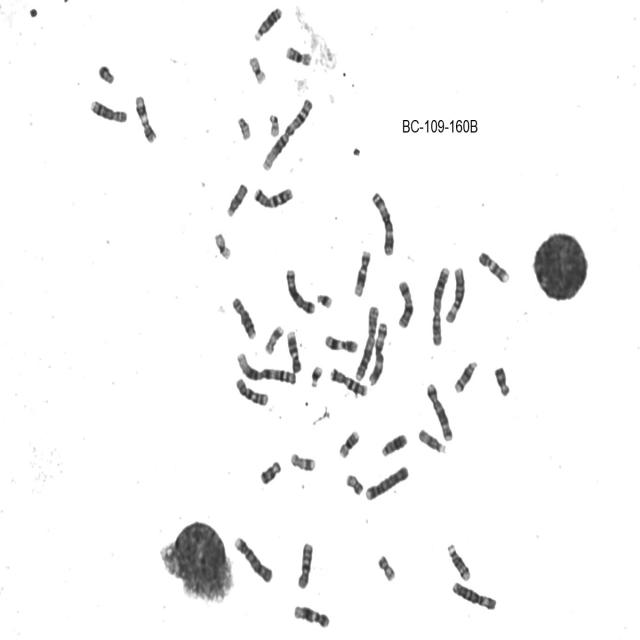A1: (260, 96, 314, 173), (234, 349, 299, 386)
A2: (354, 302, 381, 382), (429, 264, 451, 347)
A3: (370, 189, 396, 257), (366, 320, 388, 387)
B4: (232, 533, 274, 585), (363, 462, 410, 502)
B5: (424, 380, 454, 442), (284, 266, 316, 316)
C10: (233, 374, 270, 408), (296, 539, 314, 590)
C11: (133, 92, 157, 144), (323, 332, 359, 354)
C12: (291, 602, 331, 629), (352, 248, 372, 298)
C6: (450, 579, 498, 611), (444, 264, 466, 324)
C7: (328, 365, 368, 397), (252, 184, 294, 210)
C8: (230, 294, 258, 340), (88, 97, 128, 124)
C9: (476, 248, 511, 284), (284, 329, 302, 374)
D13: (252, 3, 284, 42), (380, 431, 408, 458)
D14: (445, 542, 472, 582), (452, 358, 479, 394)
D15: (417, 426, 448, 455), (225, 180, 248, 218)
E16: (336, 428, 361, 460), (283, 42, 313, 67)
E17: (263, 322, 285, 356), (288, 450, 317, 473)
E18: (492, 363, 512, 398), (258, 458, 282, 487)
F19: (247, 53, 267, 86), (212, 230, 232, 262)
F20: (376, 552, 396, 582), (344, 472, 364, 496)
G21: (308, 363, 324, 389), (314, 291, 334, 310)
G22: (235, 114, 252, 141), (266, 111, 280, 138)
X: (395, 278, 415, 330)
Y: (96, 62, 116, 85)
